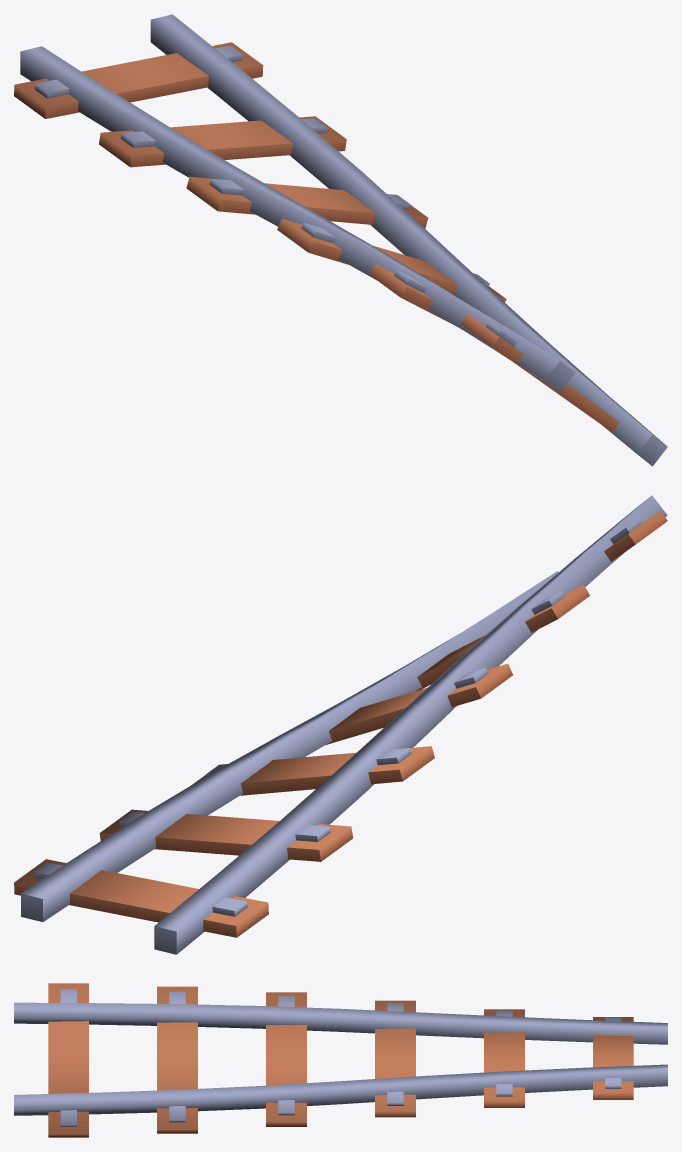
Rendered from railroad-straight-skew-left.glb.
The picture shows the model from 3 angles, top to bottom: view 1: azimuth 30°, elevation 25°; view 2: azimuth 150°, elevation 25°; view 3: azimuth 270°, elevation 25°; orthographic projection. The views are drawn at different scales.
Parts seen in each view (by area): view 1: railroad-straight-skew-left; view 2: railroad-straight-skew-left; view 3: railroad-straight-skew-left.
Part boxes in pixels (x1=…): railroad-straight-skew-left: x1=14, y1=14, x2=667, y2=466; railroad-straight-skew-left: x1=14, y1=495, x2=667, y2=954; railroad-straight-skew-left: x1=14, y1=983, x2=667, y2=1137.
Size of the model in its own units: 1 by 0.7105 by 4.
